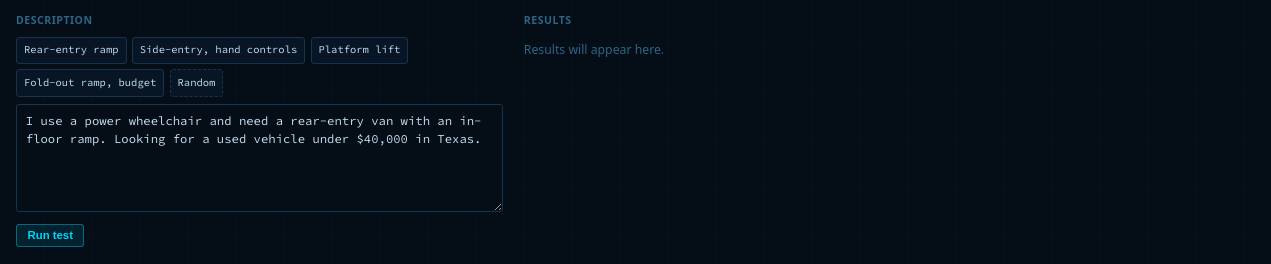
Test: IntakeTestPanel › should show "Ollama is not running" guidance for a connection error
Click the button "Run test". click: (50, 235)
box: [16,224,84,247]
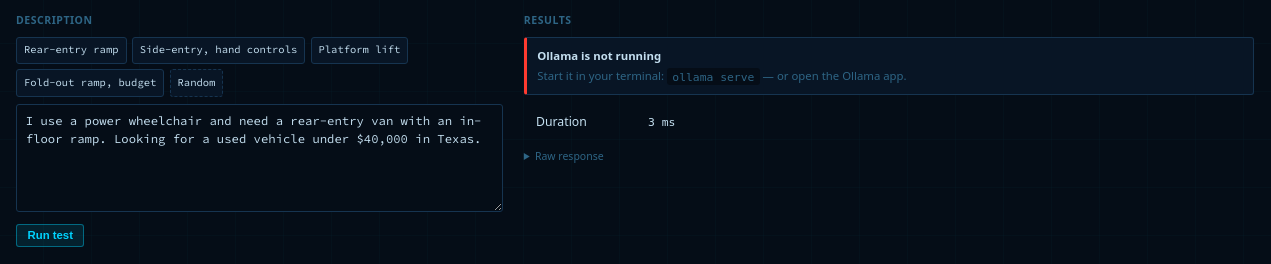
Result: the text "Ollama is not running" is shown at [537,48,661,63]
Result: the text "ollama serve" is shown at [667,68,760,85]
